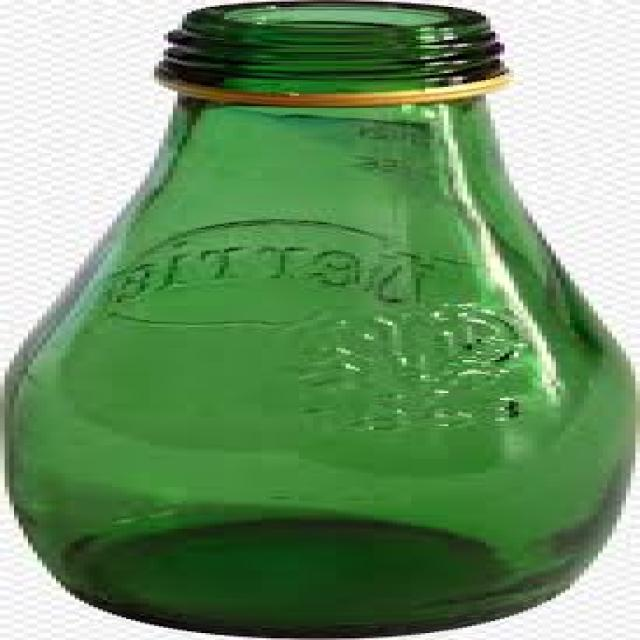glass: (0, 0, 635, 638)
